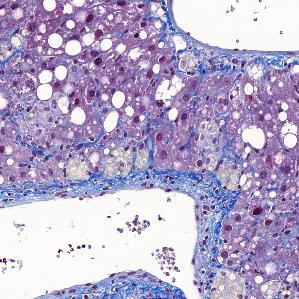fibrosis: (124, 142, 220, 190)
